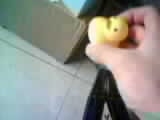duck: (80, 9, 125, 54)
